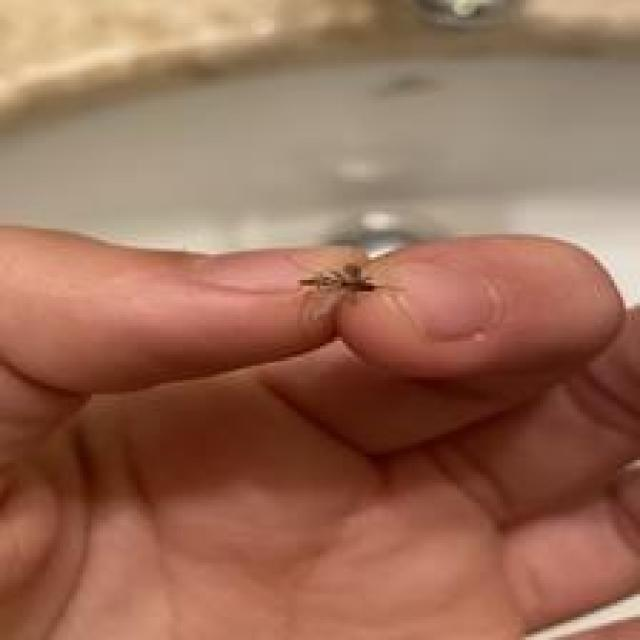Culex: (296, 260, 404, 323)
